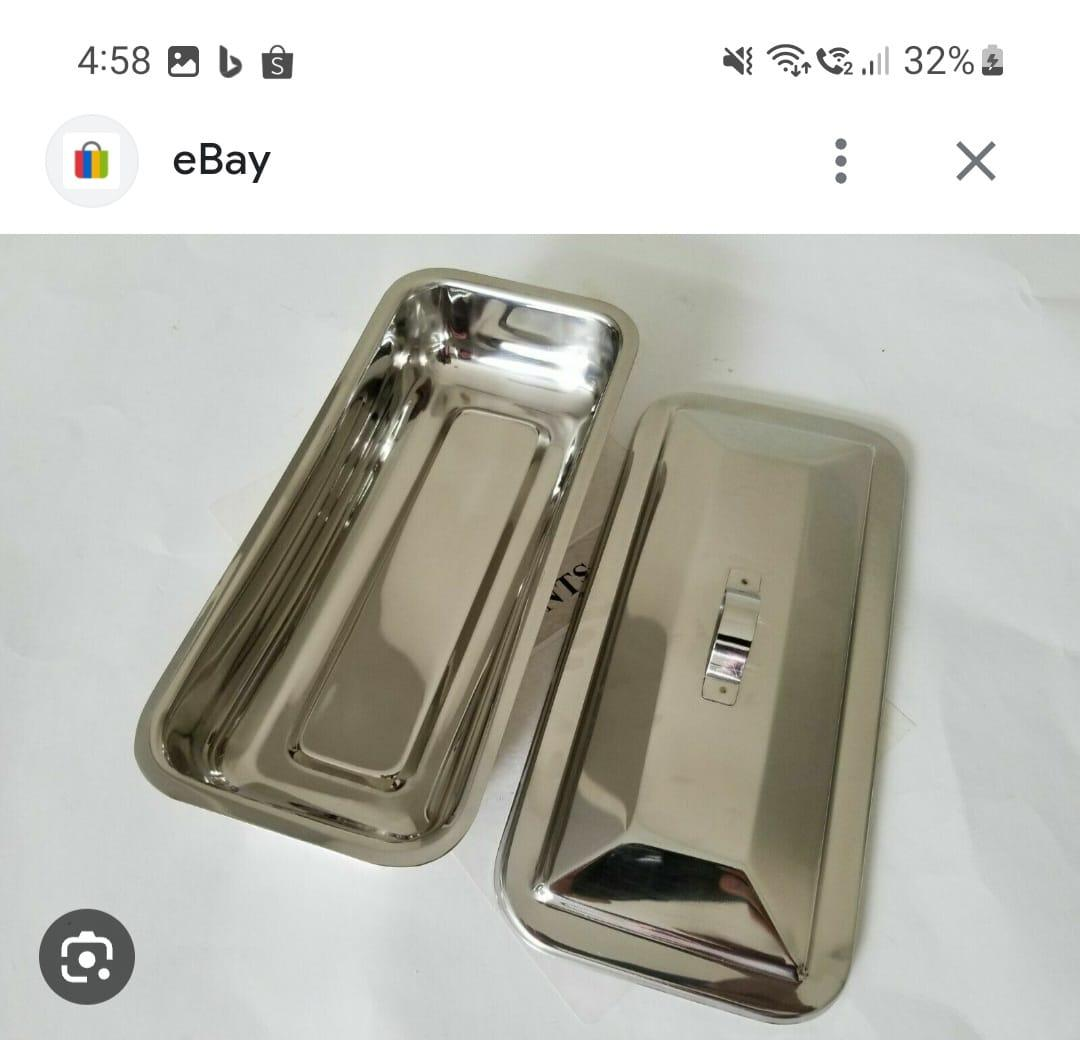Catheter Tray: (127, 250, 648, 870)
